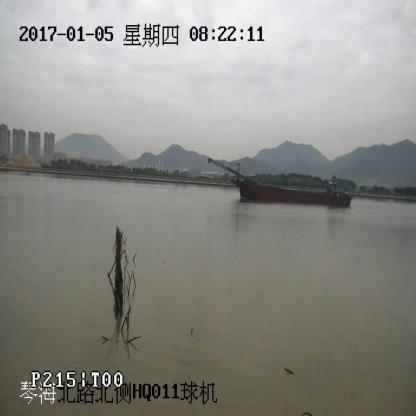Bulk Carrier: (209, 160, 352, 206)
